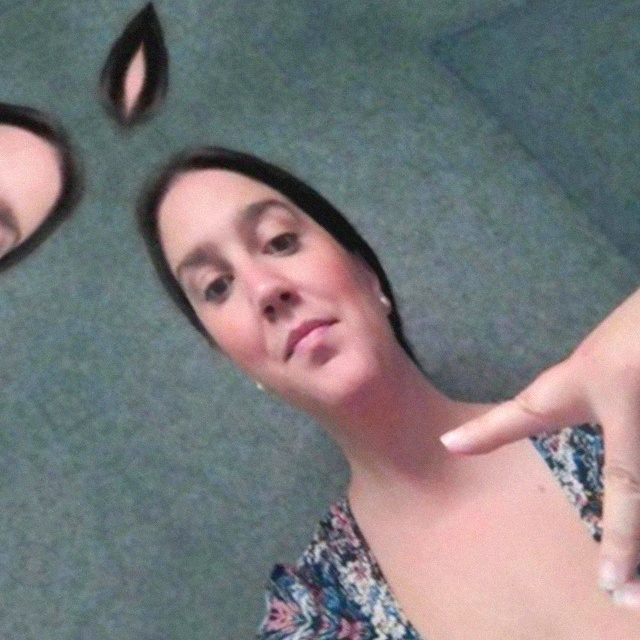Scissors: (505, 0, 640, 13)
